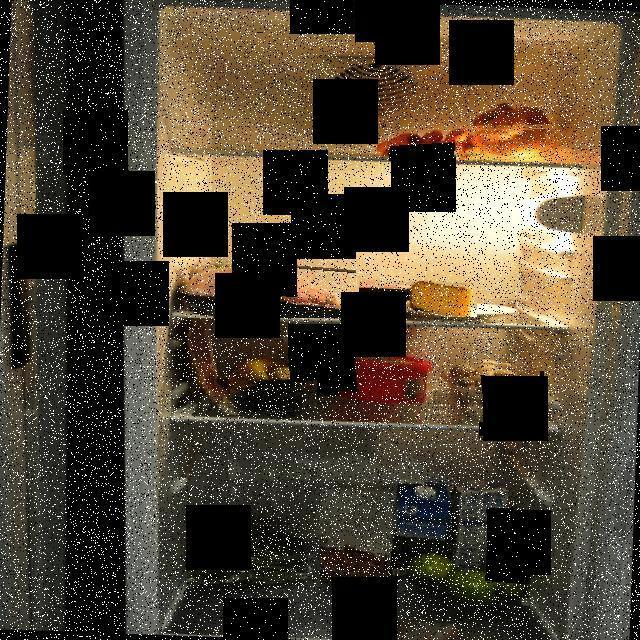apple: (404, 546, 531, 606)
banana: (218, 348, 338, 396)
blueberries: (230, 380, 317, 418)
butter: (318, 339, 433, 403)
carrot: (374, 126, 482, 162)
cheese: (408, 278, 478, 318)
chicken: (181, 256, 359, 318)
green_beans: (187, 516, 316, 590)
ham: (184, 318, 226, 413)
milk: (389, 476, 456, 578), (454, 480, 513, 583)
mushrooms: (432, 358, 540, 422)
onion: (468, 102, 558, 162)
shrimp: (320, 538, 392, 582)
